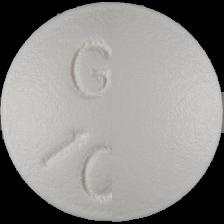53808-0760: (0, 0, 224, 224)
